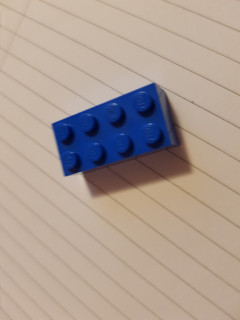2x4 blue: (48, 81, 182, 184)
